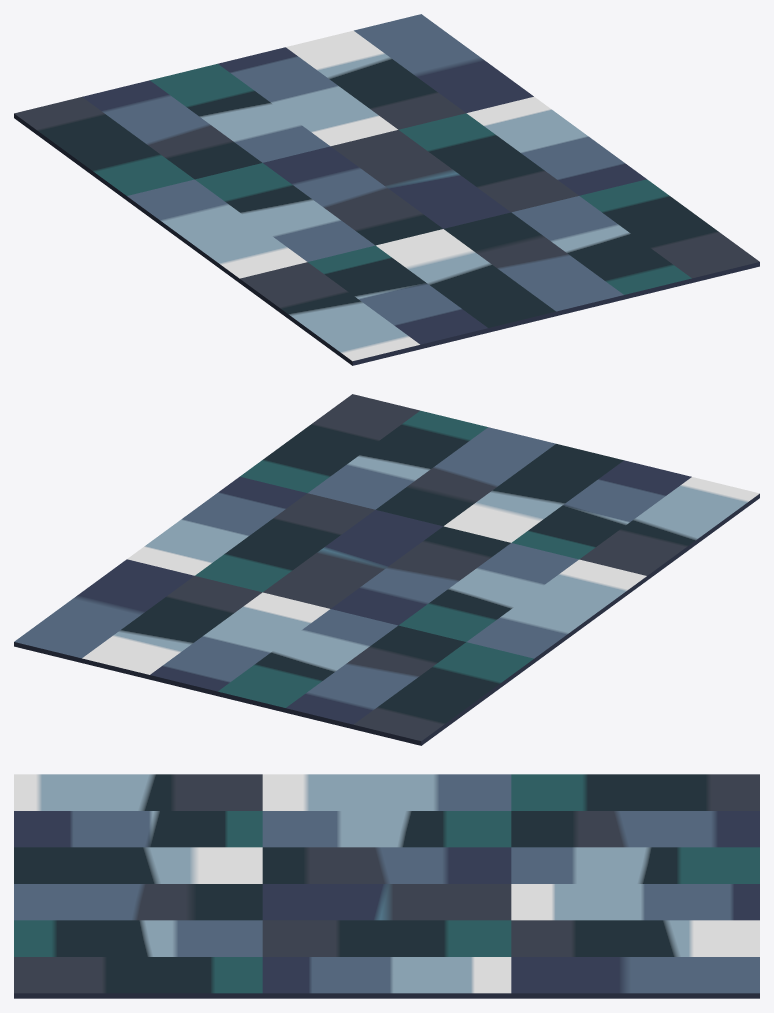
File: Interior_Rug03.fbx
3 renders of one model, top to bottom at view 1: azimuth 30°, elevation 25°; view 2: azimuth 150°, elevation 25°; view 3: azimuth 270°, elevation 25°, orthographic. The views are drawn at different scales.
Parts seen in each view (by area): view 1: Plane.057; view 2: Plane.057; view 3: Plane.057.
Boxes of the visible parts, <box> form: Plane.057: <box>14,14,759,365</box>; Plane.057: <box>14,394,759,745</box>; Plane.057: <box>14,774,759,998</box>.
Size of the model in its own units: 200 by 2.19 by 288.
